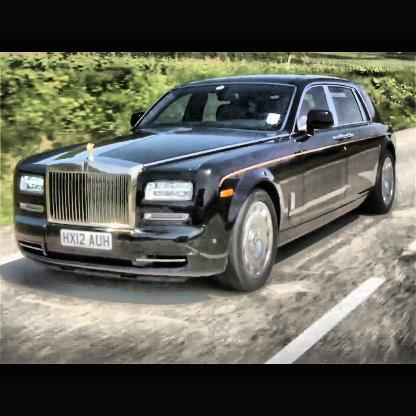Rolls-Royce Phantom Sedan 2012: (12, 71, 400, 297)
